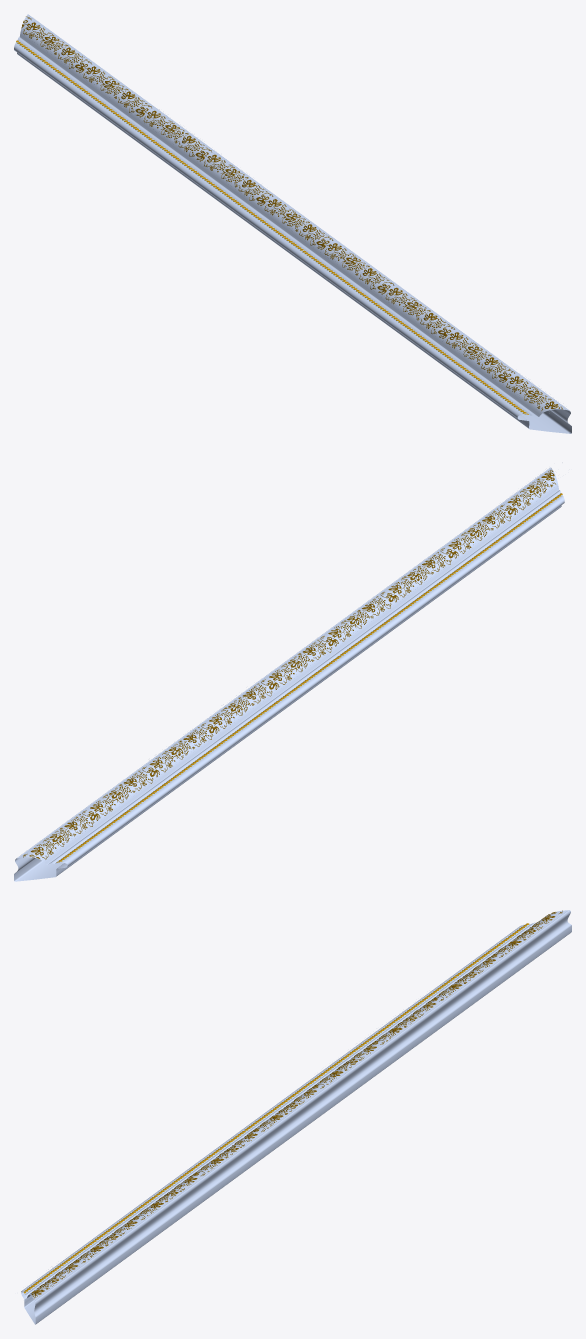
The model's file is APPLIED1.glb.
3 renders of one model, top to bottom at view 1: azimuth 30°, elevation 25°; view 2: azimuth 150°, elevation 25°; view 3: azimuth 330°, elevation 25°, orthographic.
Parts seen in each view (by area): view 1: final.002, Plane.017, Plane.027, Plane.025, Plane.012, Plane.015, Plane.023, Plane.029, Plane.013, Plane.031, final.004, final.003 (+1 smaller); view 2: final.002, Plane.023, Plane.017, Plane.025, Plane.029, Plane.012, Plane.027, Plane.015, Plane.013, Plane.031, final.004, final.003 (+1 smaller); view 3: final.002, final.004, final.003, final.067.
Boxes of the visible parts, bbox=[...] form: final.002: bbox=[14, 14, 571, 433]; Plane.017: bbox=[195, 149, 267, 200]; Plane.027: bbox=[377, 282, 450, 333]; Plane.025: bbox=[316, 237, 389, 289]; Plane.012: bbox=[75, 60, 147, 112]; Plane.015: bbox=[135, 105, 207, 156]; Plane.023: bbox=[256, 193, 329, 245]; Plane.029: bbox=[438, 326, 510, 378]; Plane.013: bbox=[21, 16, 87, 68]; Plane.031: bbox=[498, 370, 562, 410]; final.004: bbox=[302, 250, 455, 361]; final.003: bbox=[151, 140, 303, 250]; final.002: bbox=[14, 467, 564, 881]; Plane.023: bbox=[261, 640, 331, 689]; Plane.017: bbox=[201, 683, 272, 733]; Plane.025: bbox=[320, 596, 391, 646]; Plane.029: bbox=[440, 508, 511, 558]; Plane.012: bbox=[82, 771, 153, 820]; Plane.027: bbox=[380, 552, 451, 602]; Plane.015: bbox=[142, 727, 213, 776]; Plane.013: bbox=[23, 814, 94, 859]; Plane.031: bbox=[500, 470, 555, 514]; final.004: bbox=[340, 546, 490, 656]; final.003: bbox=[190, 656, 341, 765]; final.002: bbox=[21, 910, 571, 1324]; final.004: bbox=[95, 1131, 245, 1240]; final.003: bbox=[244, 1021, 395, 1131]; final.067: bbox=[394, 923, 529, 1021].
Size of the model in its own units: 2.82 by 2.04 by 77.62.
